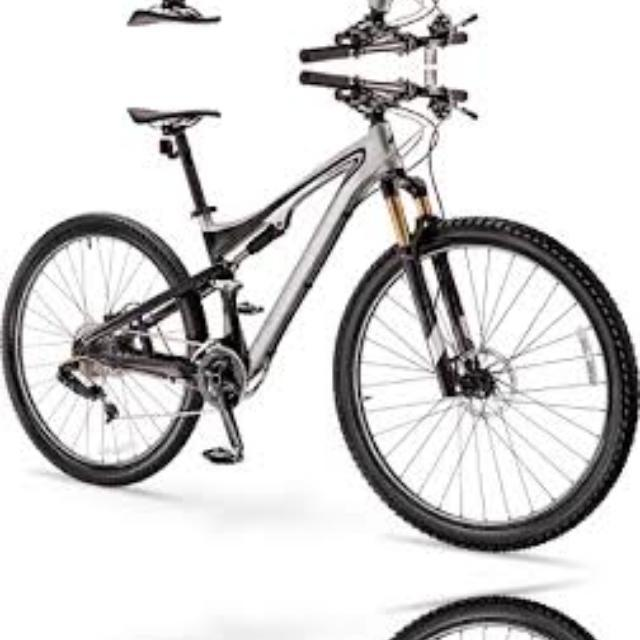obstacle: (1, 66, 640, 569), (1, 0, 640, 65), (1, 578, 640, 640)
